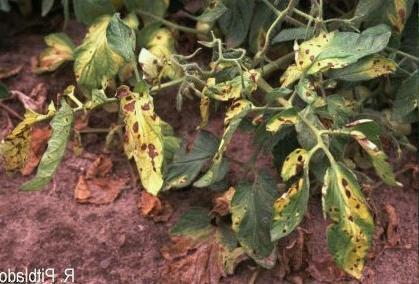Tomato Early blight leaf: (270, 22, 389, 95), (315, 159, 368, 268), (266, 149, 320, 237), (122, 86, 161, 191), (196, 102, 250, 174)
